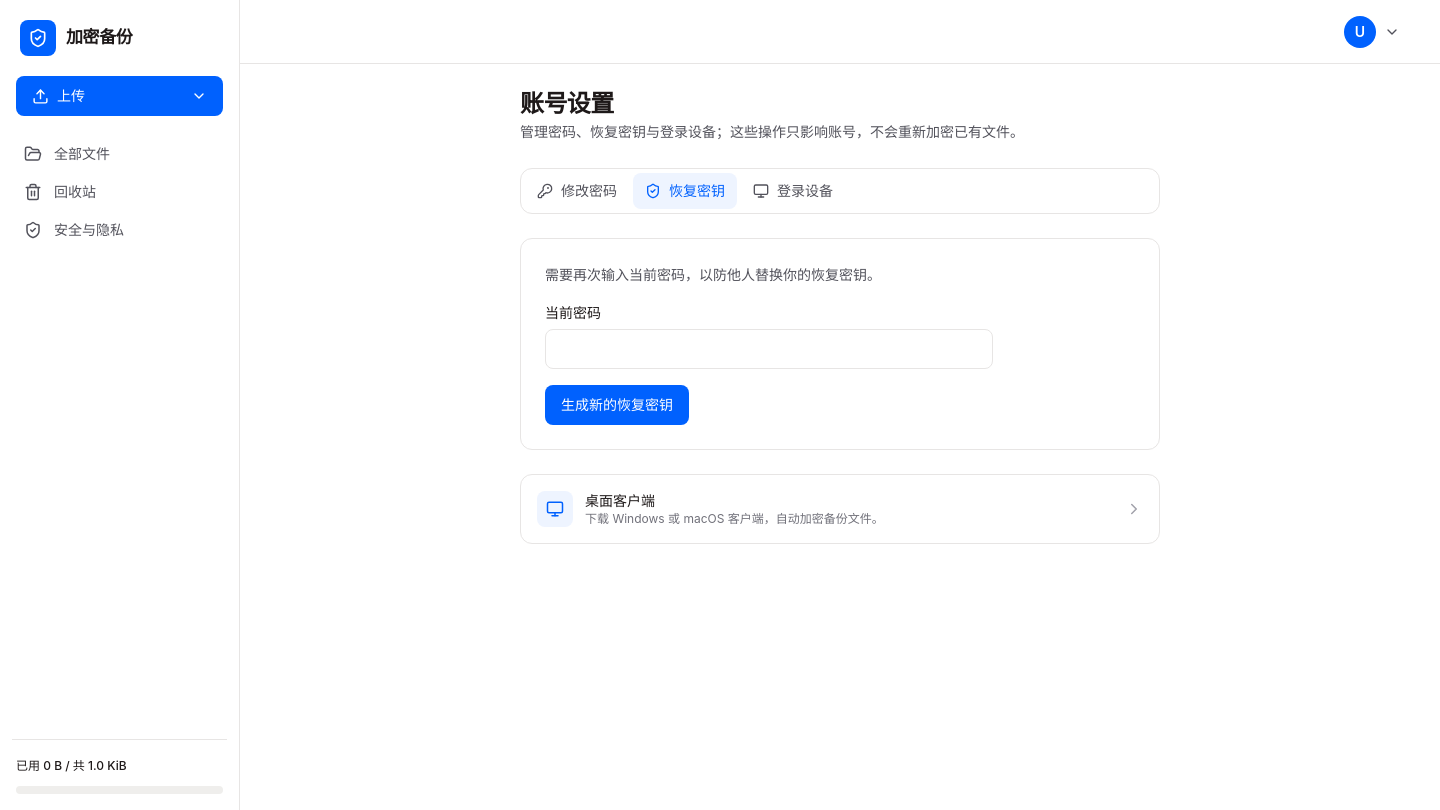
账号设置页 › 按 hash 打开对应分区并可切换三个分区
Expected: the password field with test id "rotate-current-password" is shown, [545,329,993,369]
Click the tab "修改密码" at (577, 191), box [525,173,629,209]
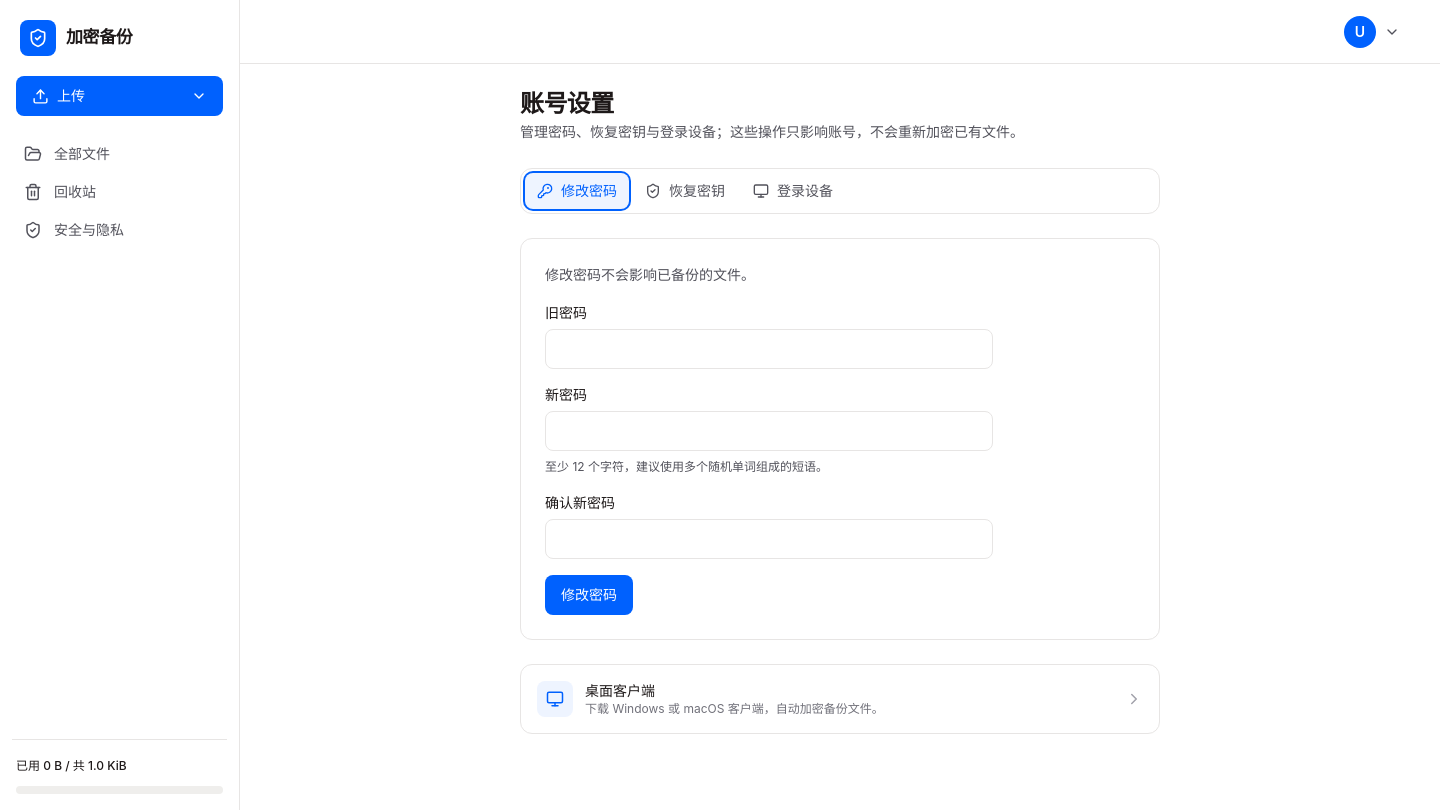
Expected: the password field with test id "change-old-password" is shown, [545,329,993,369]
Click the tab "登录设备" at (793, 191), box [741,173,845,209]
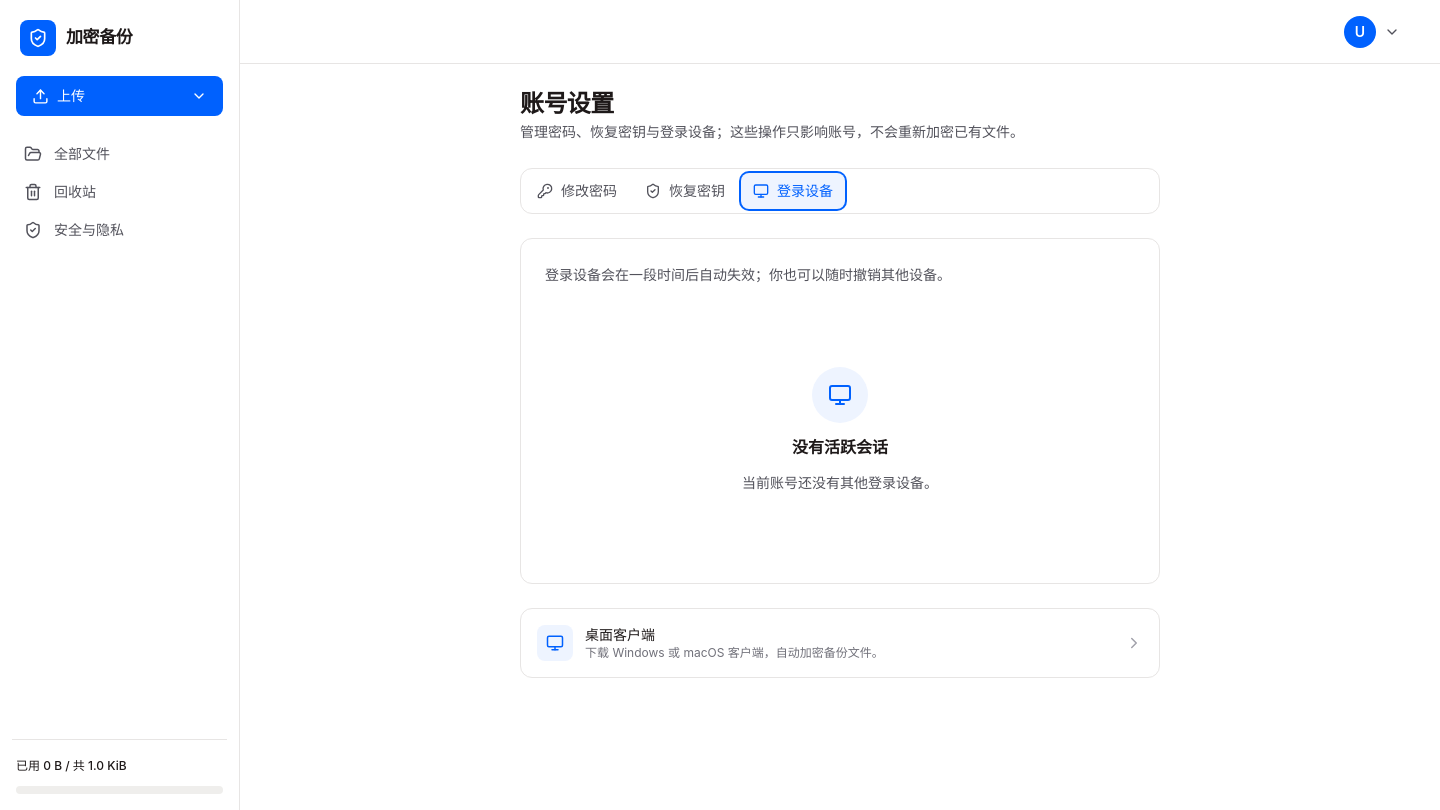
Expected: the text "没有活跃会话" is shown, [792,435,888,459]
